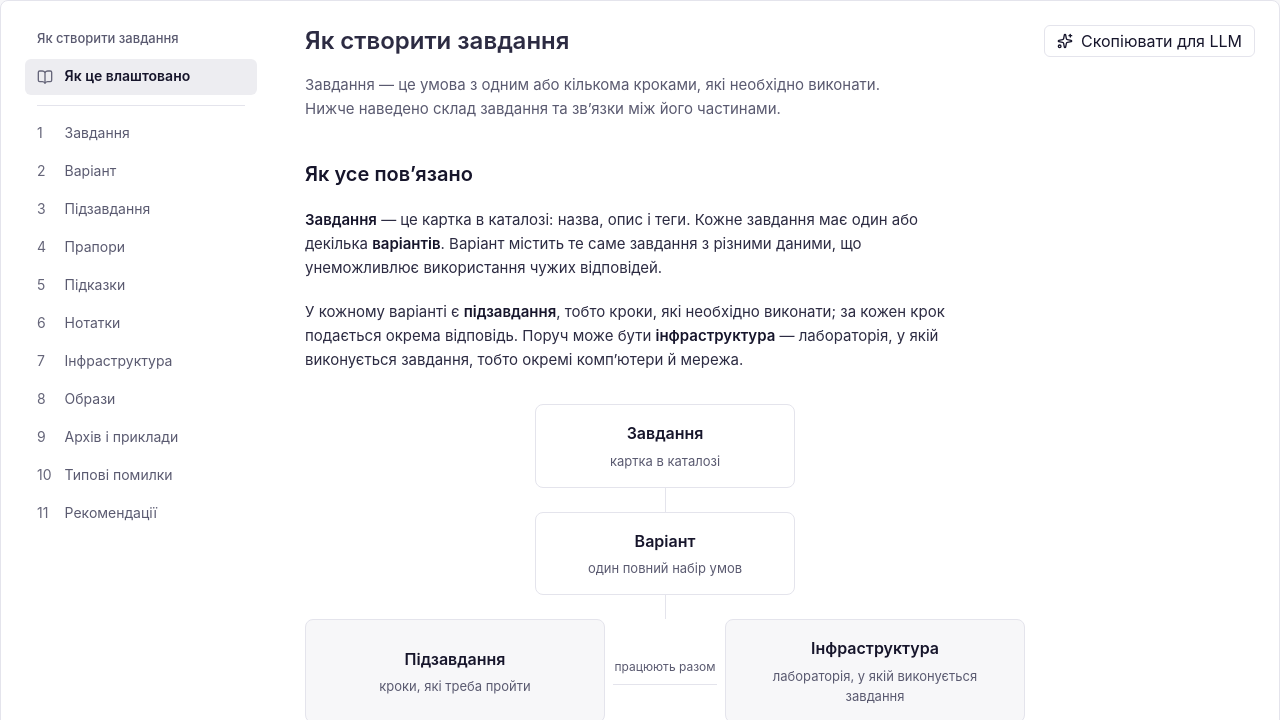
guide pages › copies the LLM digest from the overview
This screenshot has width=1280, height=720.
Click the button "Скопіювати для LLM": (1150, 41) [1044,25,1255,57]
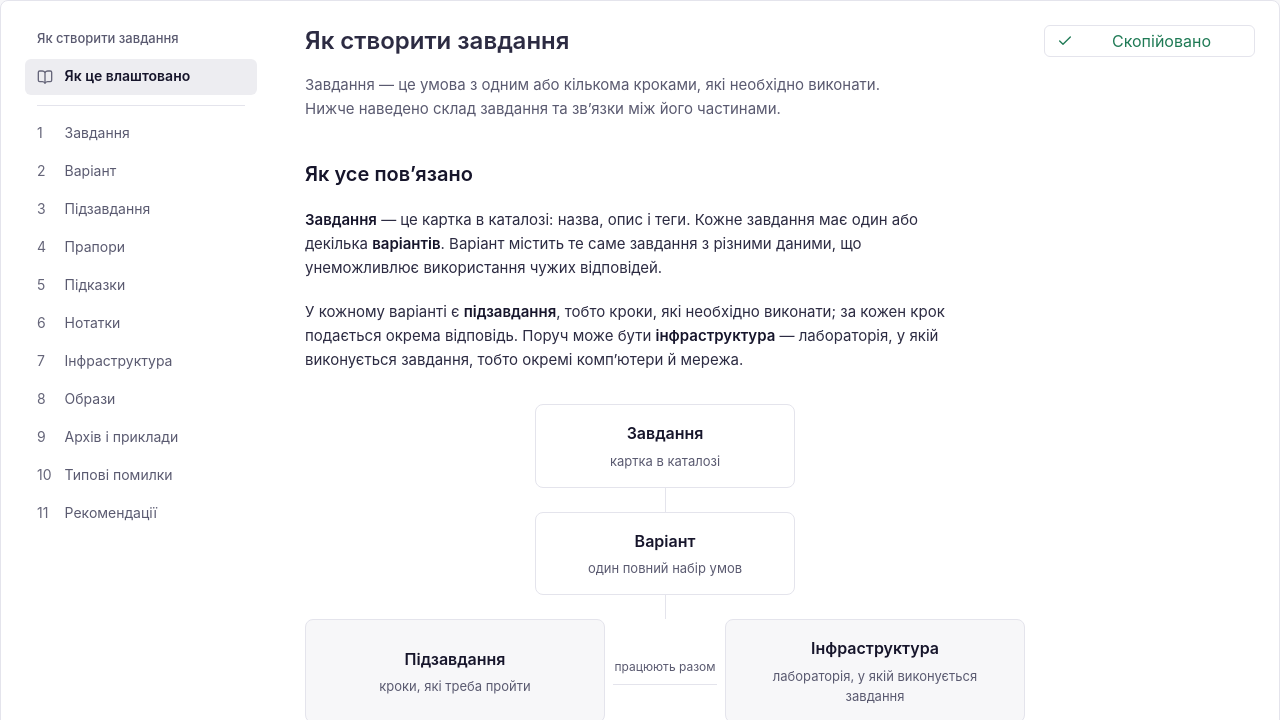
Expected: the text "Скопійовано" is shown, [1112,31,1211,51]
